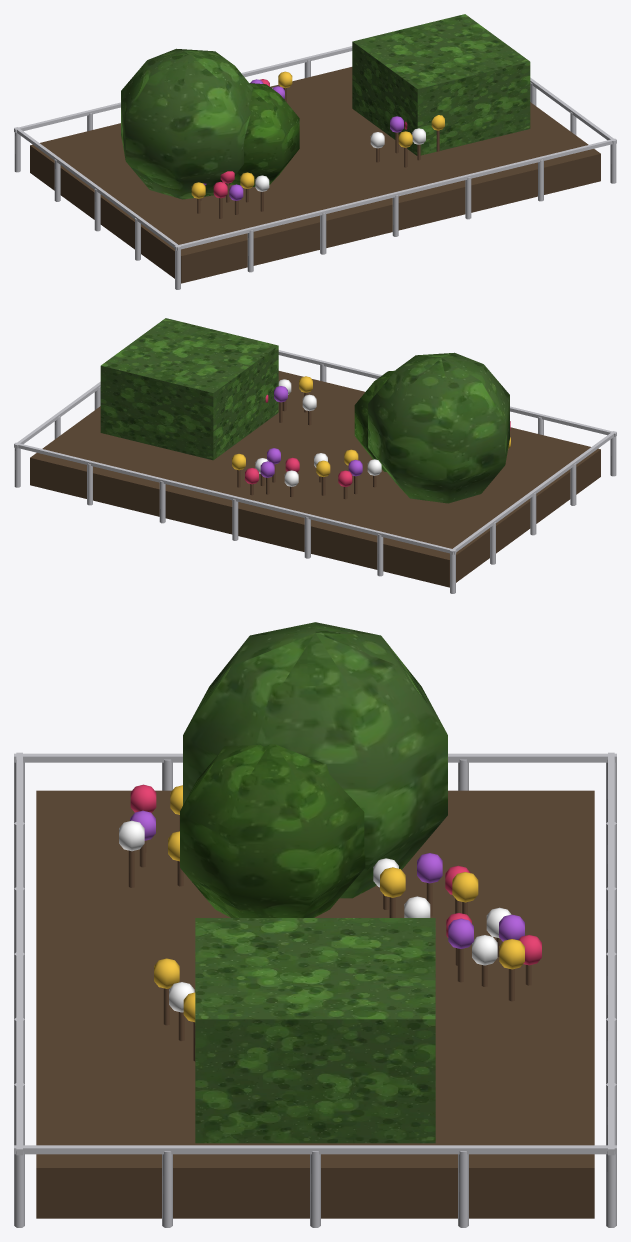
File: canteiro.glb
The picture shows the model from 3 angles, top to bottom: view 1: azimuth 30°, elevation 25°; view 2: azimuth 150°, elevation 25°; view 3: azimuth 270°, elevation 25°; orthographic projection. The views are drawn at different scales.
Size of the model in its own units: 8.4 by 2.8 by 5.4.
Materials: 9 (2 with a texture image).
